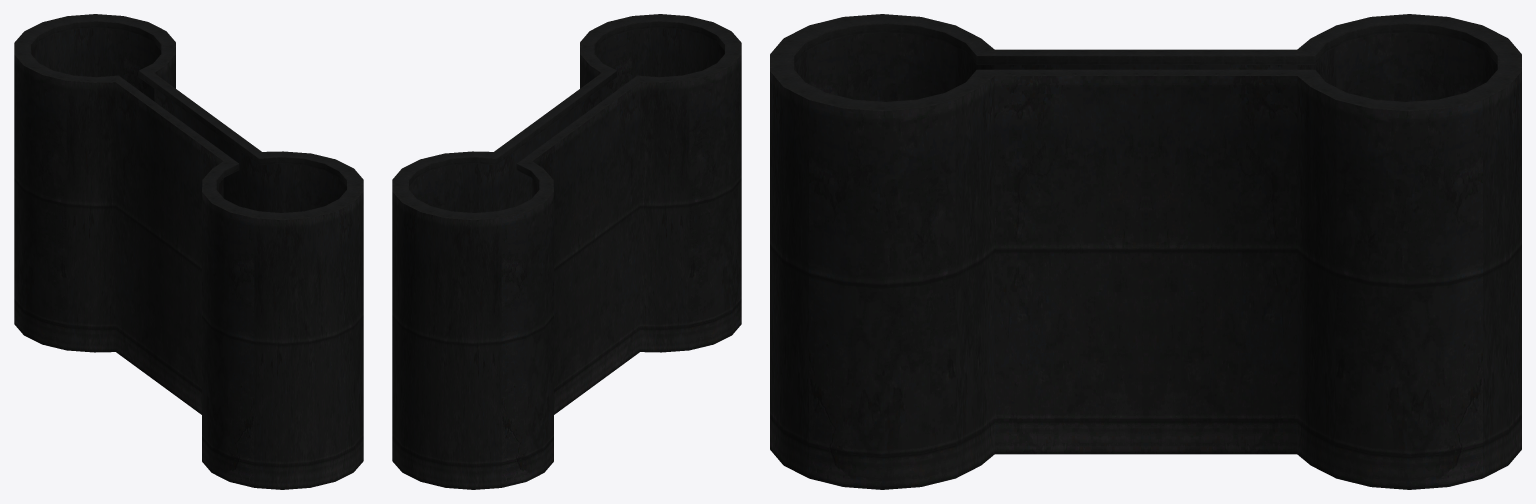
3 views of the same model, side by side, from view 1: azimuth 30°, elevation 25°; view 2: azimuth 150°, elevation 25°; view 3: azimuth 270°, elevation 25° (orthographic). The views are drawn at different scales.
Visible parts, largest first — view 1: Cylinder001; view 2: Cylinder001; view 3: Cylinder001.
Boxes of the visible parts, x1=… form: Cylinder001: x1=14, y1=14, x2=363, y2=489; Cylinder001: x1=392, y1=14, x2=741, y2=489; Cylinder001: x1=770, y1=14, x2=1521, y2=489.
Size of the model in its own units: 0.4532 by 0.8202 by 1.48.
